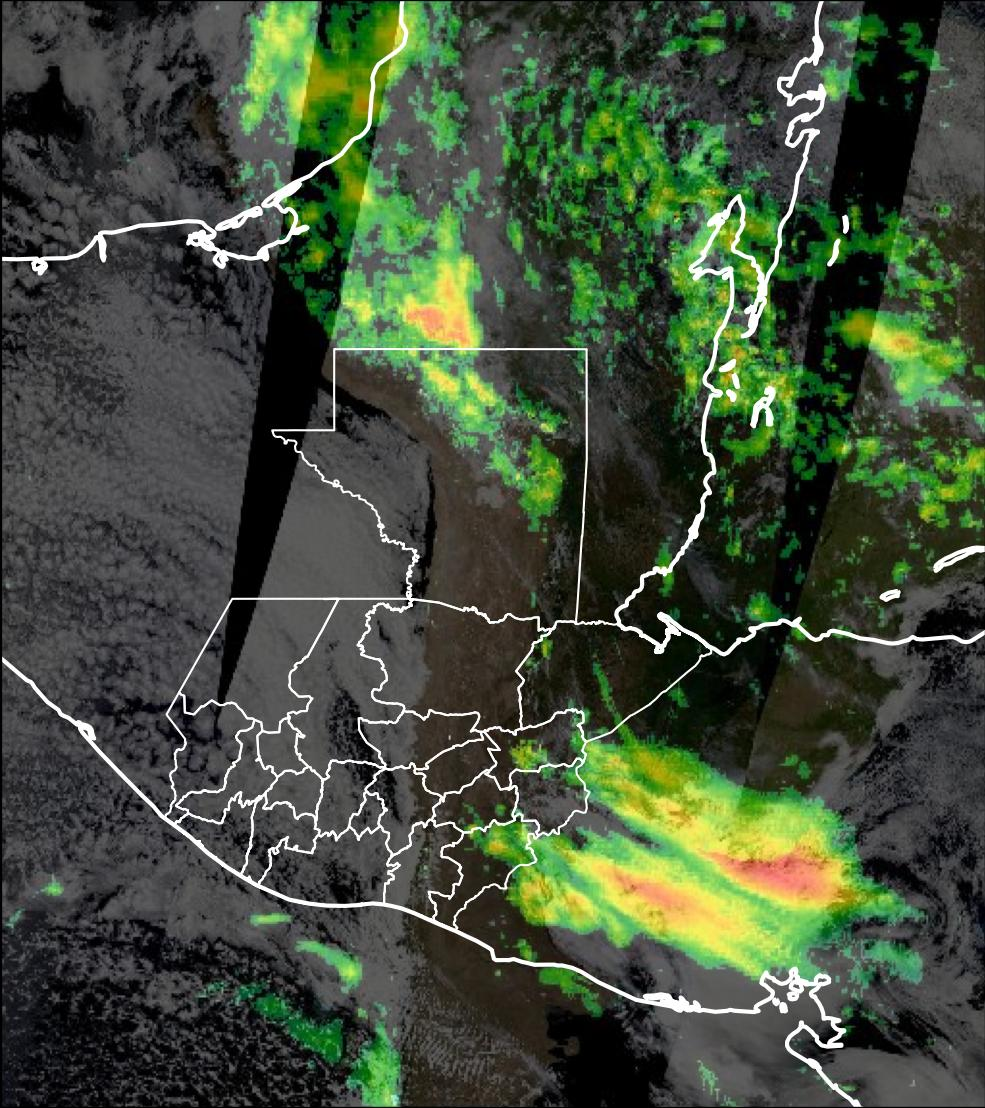precipitacion: (684, 817, 854, 926)
